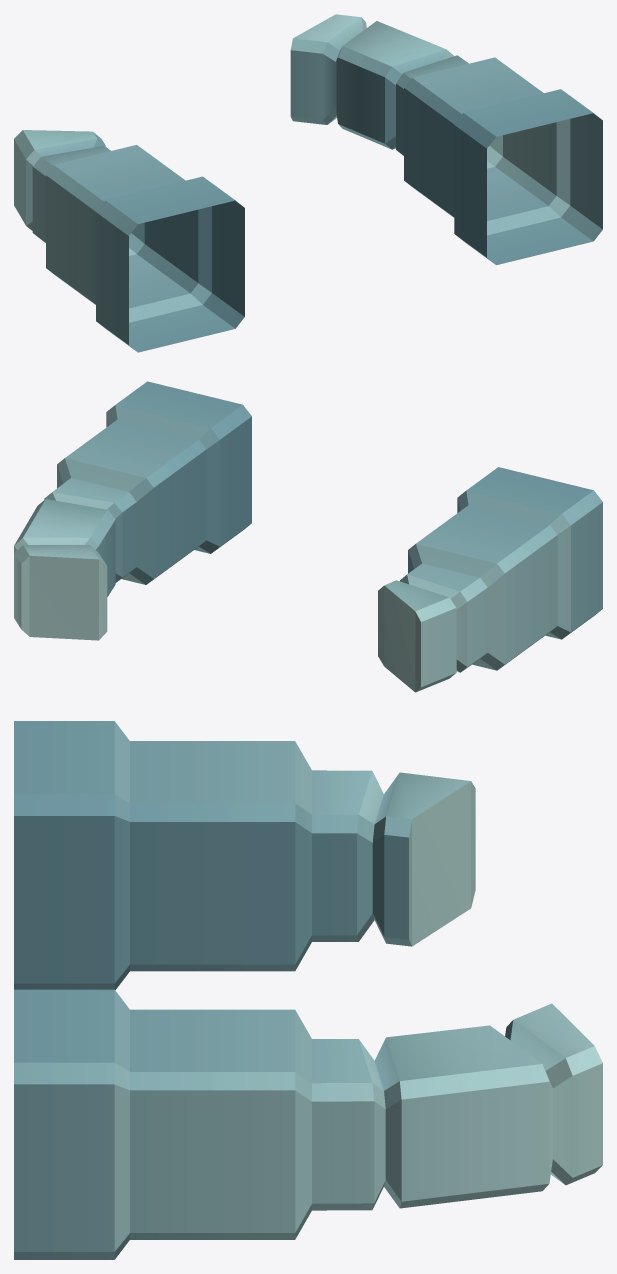
File: Arch Gate 02.FBX
3 views of the same model, one above another, from view 1: azimuth 30°, elevation 25°; view 2: azimuth 150°, elevation 25°; view 3: azimuth 270°, elevation 25° (orthographic). The views are drawn at different scales.
Visible parts, largest first — view 1: Arch Gate 02; view 2: Arch Gate 02; view 3: Arch Gate 02.
Part boxes in pixels (x1=…): Arch Gate 02: x1=14, y1=14, x2=602, y2=352; Arch Gate 02: x1=14, y1=381, x2=602, y2=692; Arch Gate 02: x1=14, y1=721, x2=602, y2=1259.
Size of the model in its own units: 633 by 443 by 164.
Materials: 1 (1 with a texture image).
